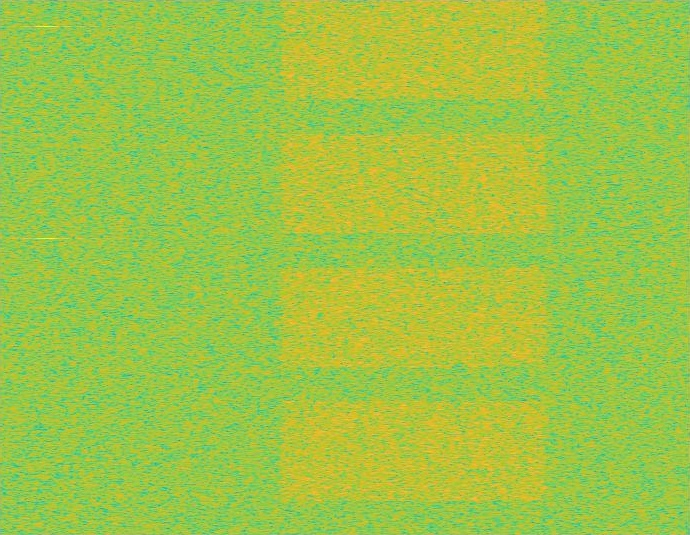5G: (276, 0, 552, 534)
Radar: (40, 0, 53, 534)
